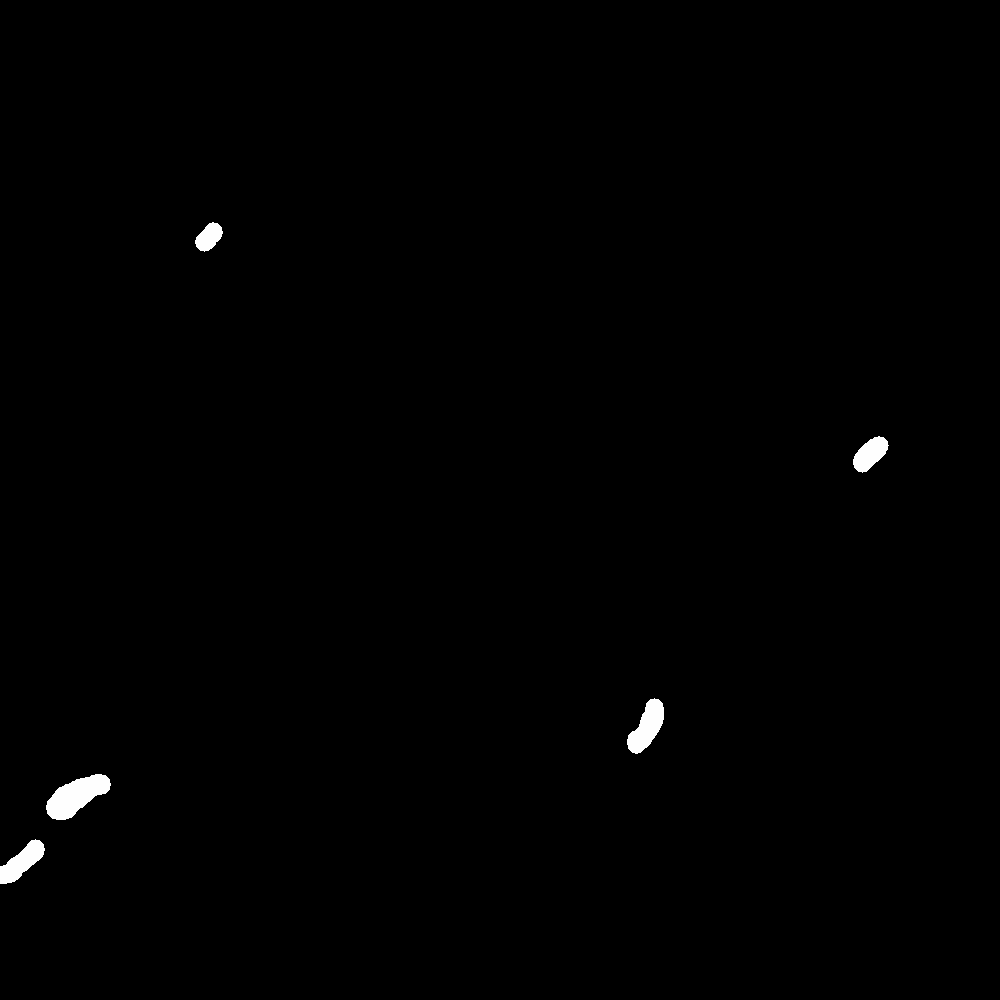illegal: (31, 764, 113, 827), (34, 705, 87, 741)
